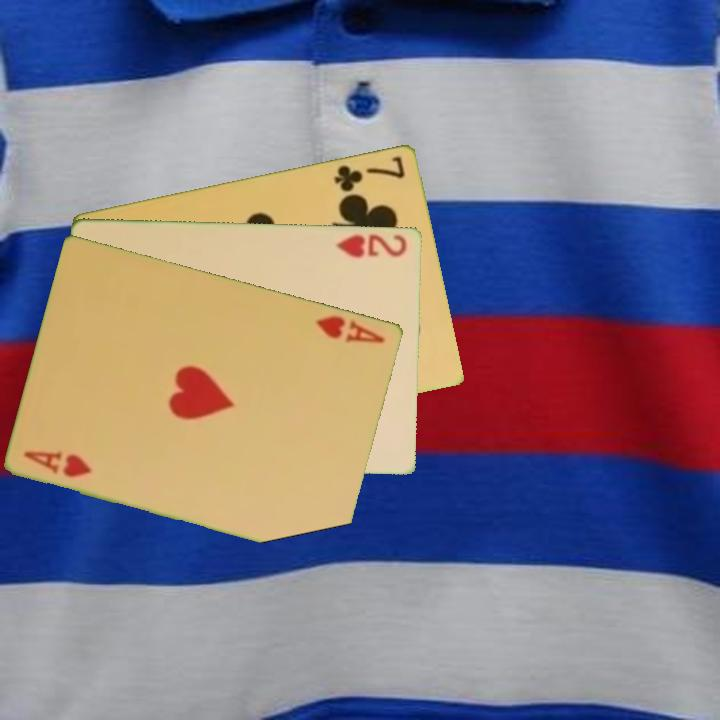2h: (333, 230, 410, 260)
7c: (331, 152, 408, 195)
Ah: (313, 311, 388, 346), (20, 447, 95, 480)
